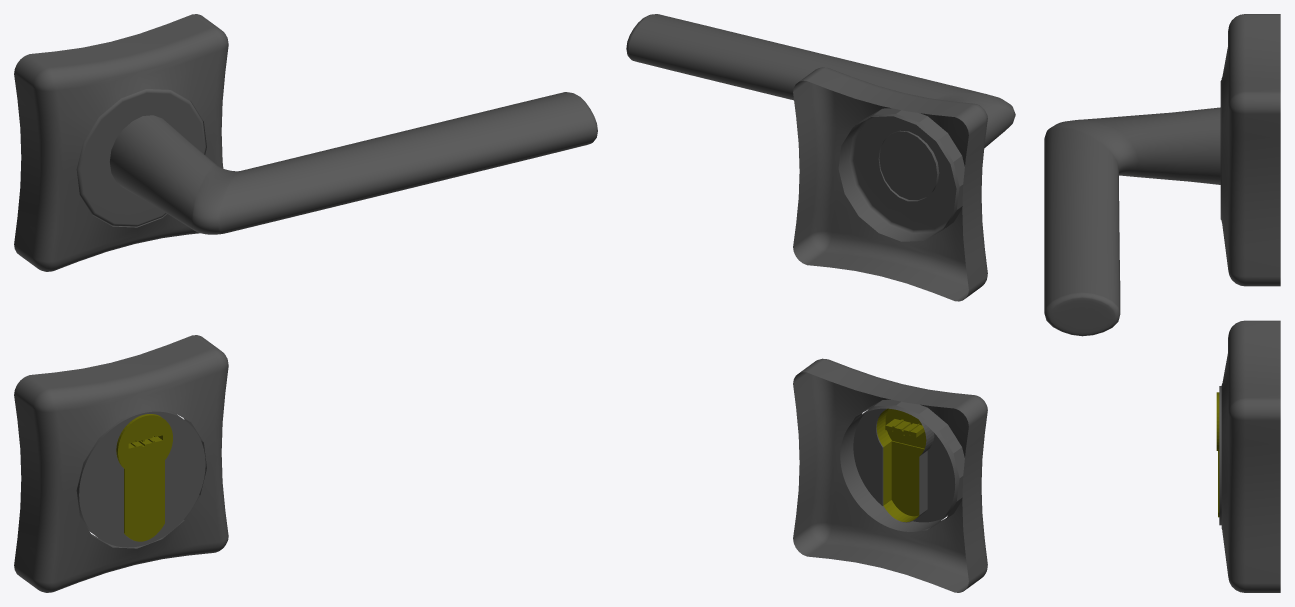
Rendered from 9e82d799-small.glb.
3 views of the same model, side by side, from view 1: azimuth 30°, elevation 25°; view 2: azimuth 150°, elevation 25°; view 3: azimuth 270°, elevation 25° (orthographic). The views are drawn at different scales.
Visible parts, largest first — view 1: object_1, object_2; view 2: object_1, object_2; view 3: object_1, object_2.
Boxes of the visible parts, x1=… form: object_1: x1=14, y1=14, x2=597, y2=592; object_2: x1=116, y1=414, x2=172, y2=541; object_1: x1=626, y1=14, x2=1015, y2=592; object_2: x1=876, y1=408, x2=926, y2=522; object_1: x1=1044, y1=14, x2=1280, y2=592; object_2: x1=1216, y1=392, x2=1219, y2=517.
Bounding box in the file's own units: 0.148 × 0.1597 × 0.0684.
